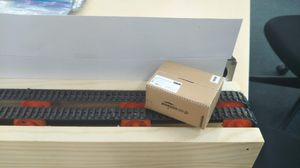box1: (142, 59, 225, 129)
